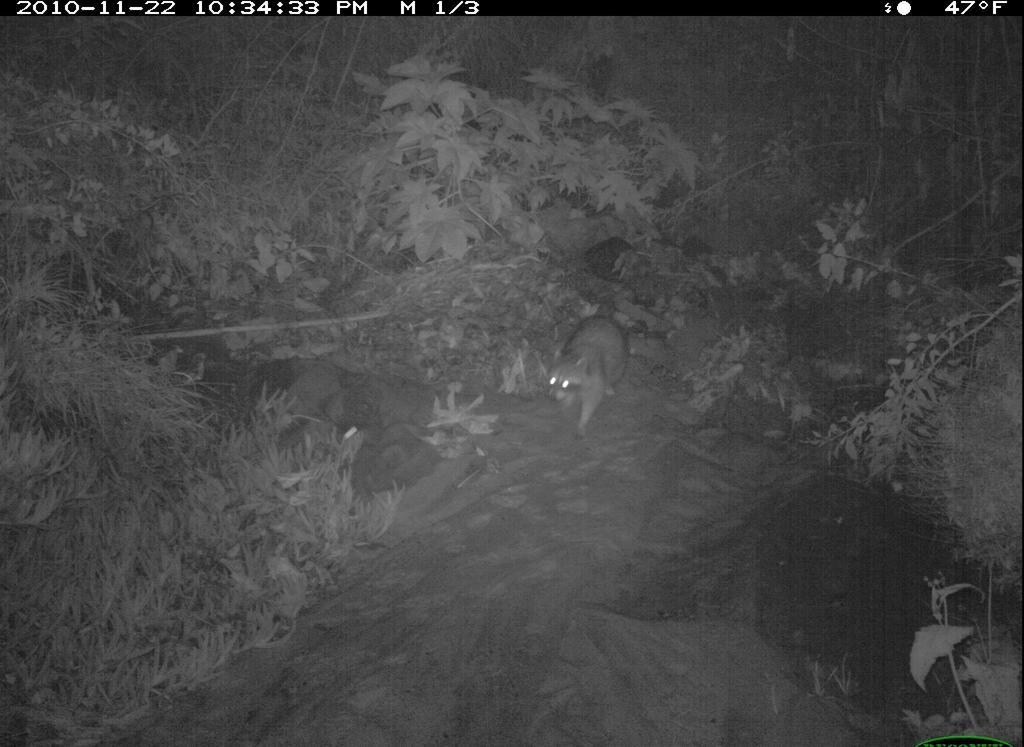raccoon: (529, 286, 646, 460)
